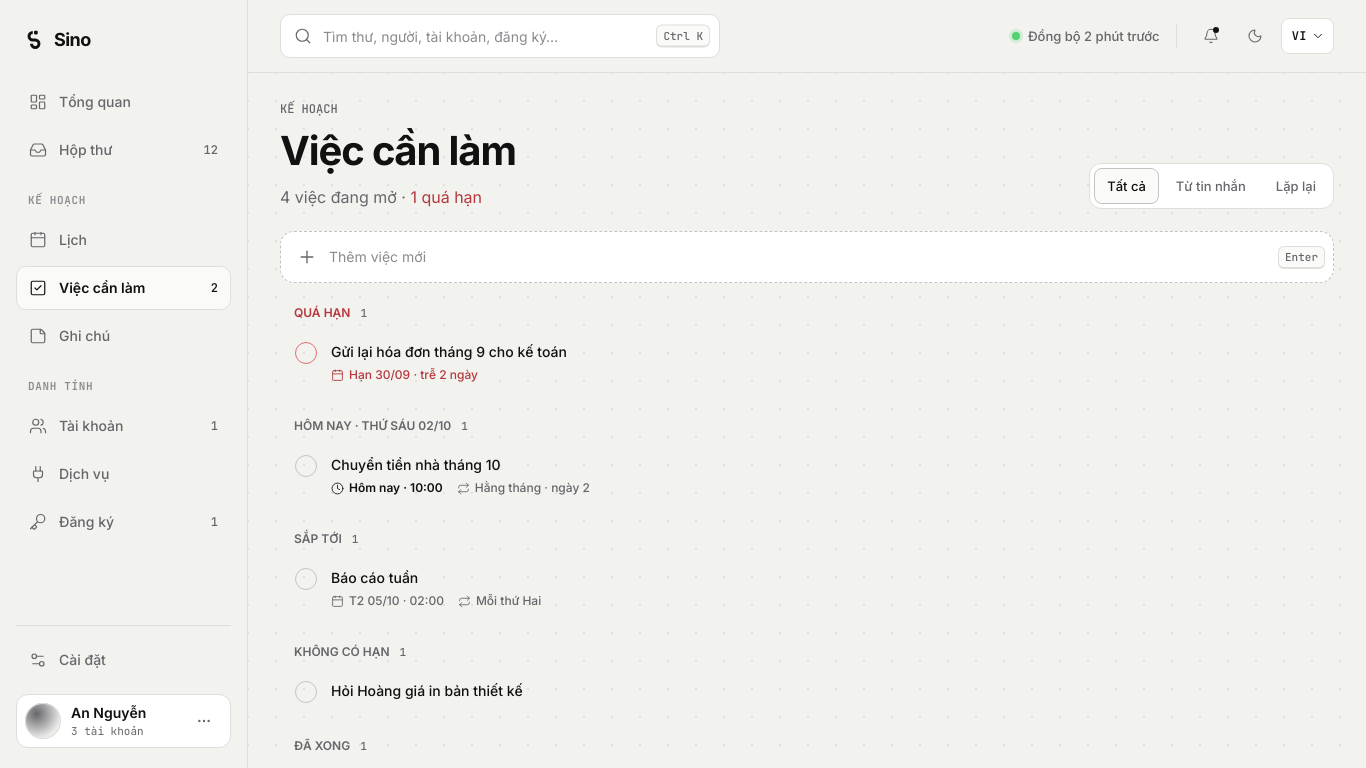
it: Việc cần làm on the F16 API (FE-70) › puts a task back and says so when the server refuses to mark it done
Expected: the element "HÔM NAY" is shown, [294,418,590,495]
Click the checkbox named "Đánh dấu xong: Chuyển tiền nhà tháng 10". click: (306, 466)
box: [295,455,317,477]
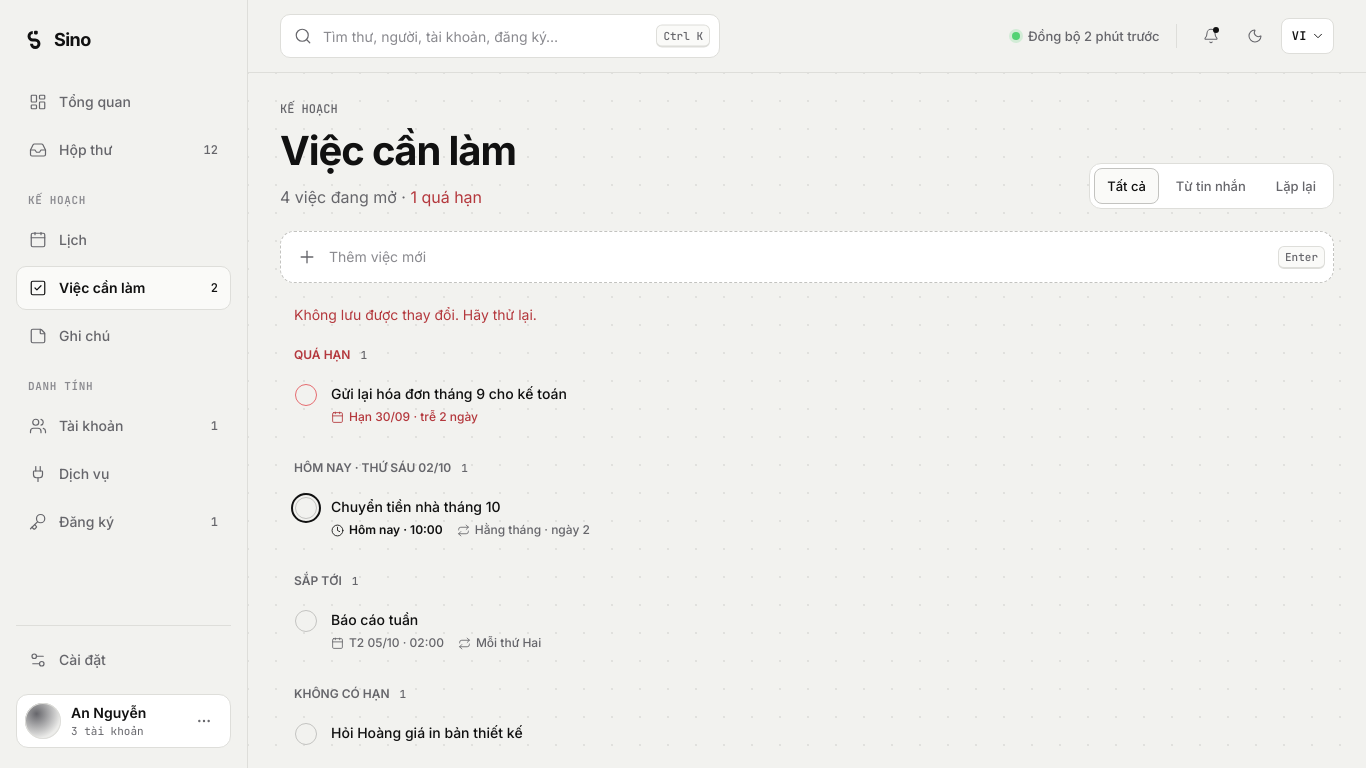
Expected: the checkbox named "Đánh dấu xong: Chuyển tiền nhà tháng 10" is not checked, [295,497,317,519]
Now the message reads "Không lưu được thay đổi. Hãy thử lại.", box [294,306,537,323]
